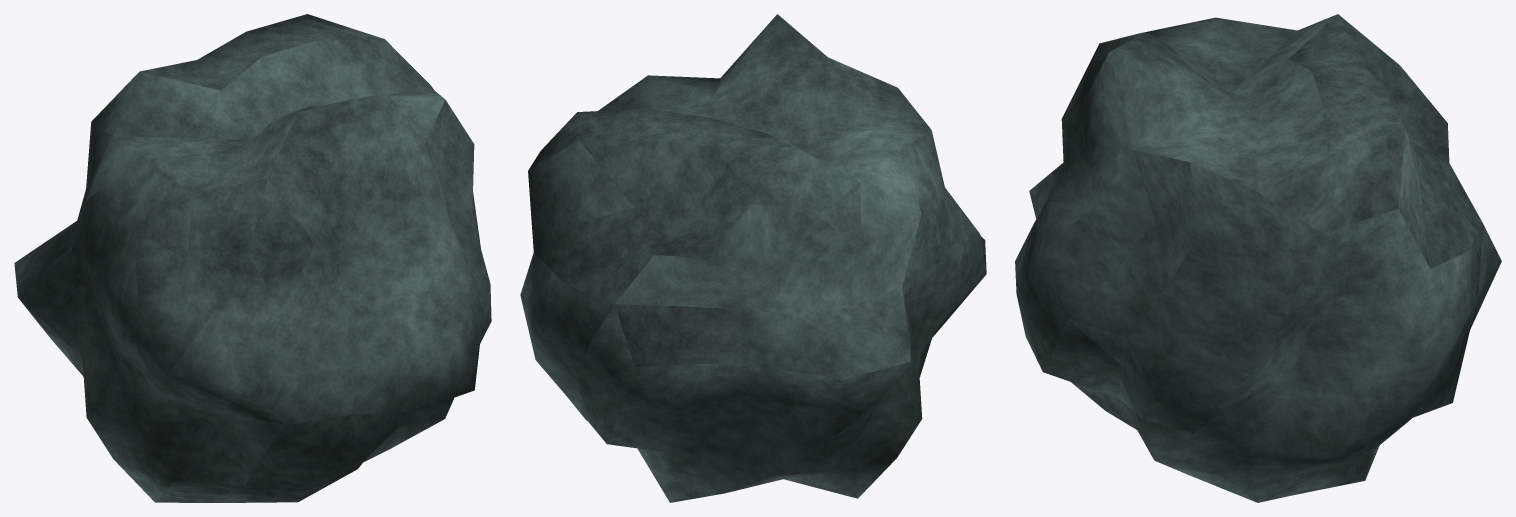
Rendered from rock_4.glb.
The picture shows the model from 3 angles, left to right: view 1: azimuth 30°, elevation 25°; view 2: azimuth 150°, elevation 25°; view 3: azimuth 270°, elevation 25°; orthographic projection. The views are drawn at different scales.
Visible parts, largest first — view 1: rock_4_Rock; view 2: rock_4_Rock; view 3: rock_4_Rock.
Part boxes in pixels (x1,y1,x2,y2): rock_4_Rock: (14, 14, 491, 502); rock_4_Rock: (520, 14, 986, 502); rock_4_Rock: (1015, 14, 1501, 502).
Size of the model in its own units: 2.17 by 2.17 by 2.16.
1 material, 1 textured.
